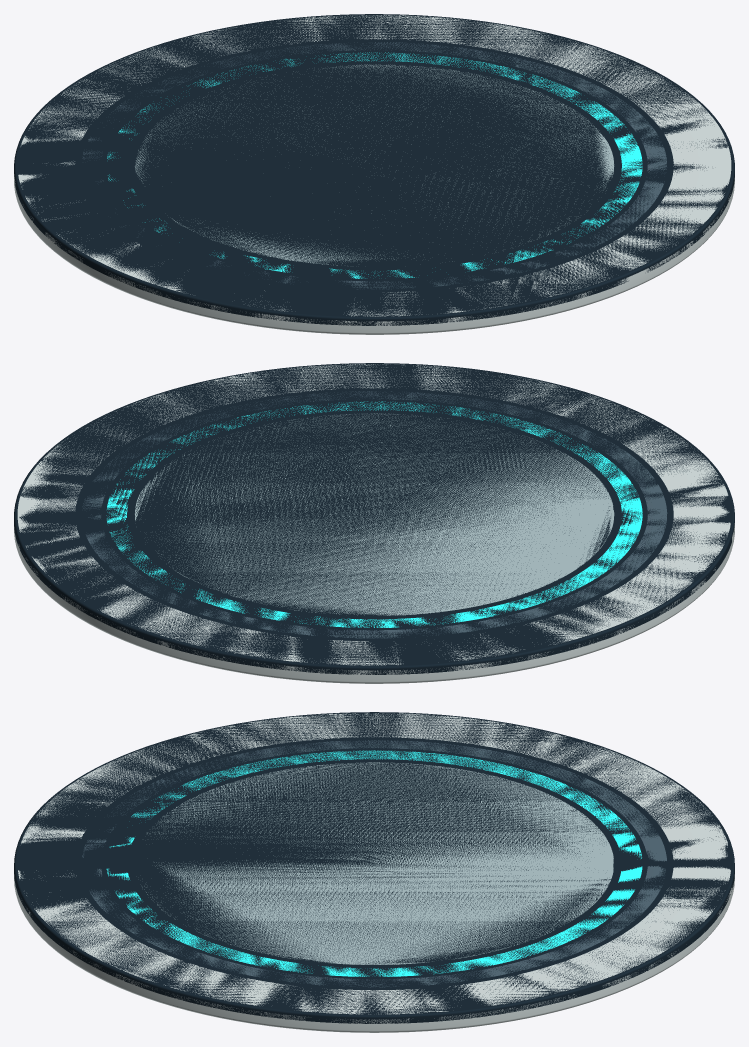
File: SM_TestArena_SwitchHousing.glb
The picture shows the model from 3 angles, top to bottom: view 1: azimuth 30°, elevation 25°; view 2: azimuth 150°, elevation 25°; view 3: azimuth 270°, elevation 25°; orthographic projection.
Parts seen in each view (by area): view 1: SM_TestArena_SwitchHousing; view 2: SM_TestArena_SwitchHousing; view 3: SM_TestArena_SwitchHousing.
Part boxes in pixels (x1,y1,x2,y2): SM_TestArena_SwitchHousing: (14, 14, 734, 334); SM_TestArena_SwitchHousing: (14, 363, 734, 683); SM_TestArena_SwitchHousing: (14, 712, 734, 1032).
Size of the model in its own units: 0.8 by 0.022 by 0.8.
